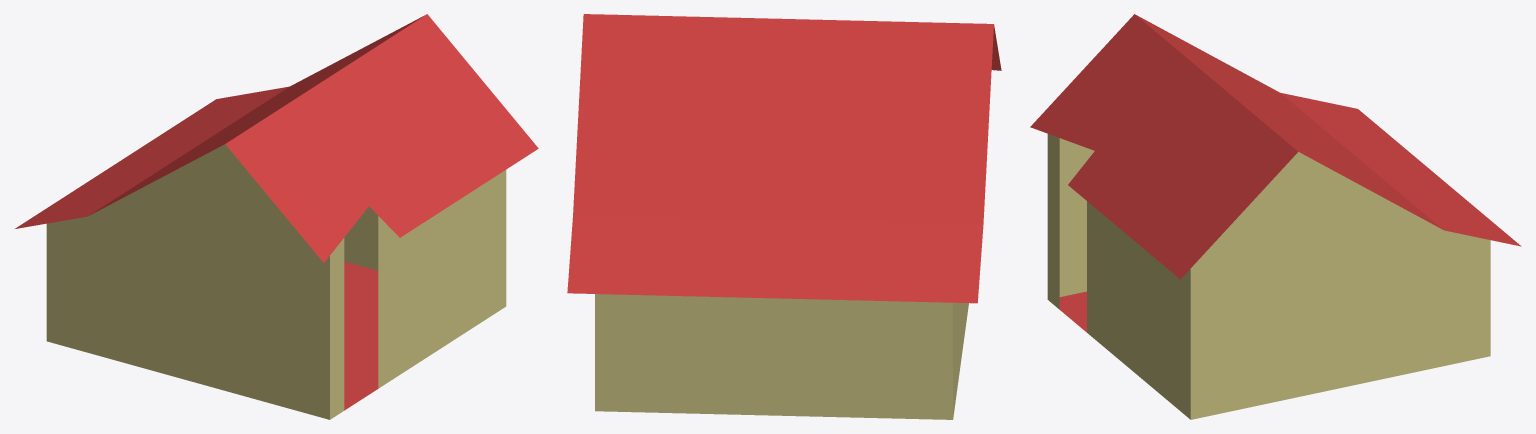
3 views of the same model, side by side, from view 1: azimuth 30°, elevation 25°; view 2: azimuth 150°, elevation 25°; view 3: azimuth 270°, elevation 25° (orthographic). The views are drawn at different scales.
Bounding box in the file's own units: 21.38 × 21.13 × 12.15.
